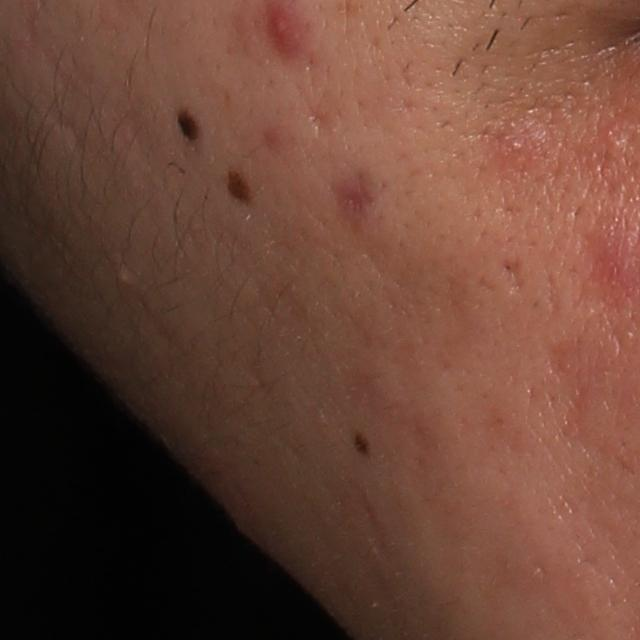atrophic_scar: (499, 255, 531, 303), (299, 104, 336, 143)
nevus: (221, 164, 250, 206), (174, 107, 204, 145), (351, 429, 374, 459)
papule: (264, 5, 302, 55)
